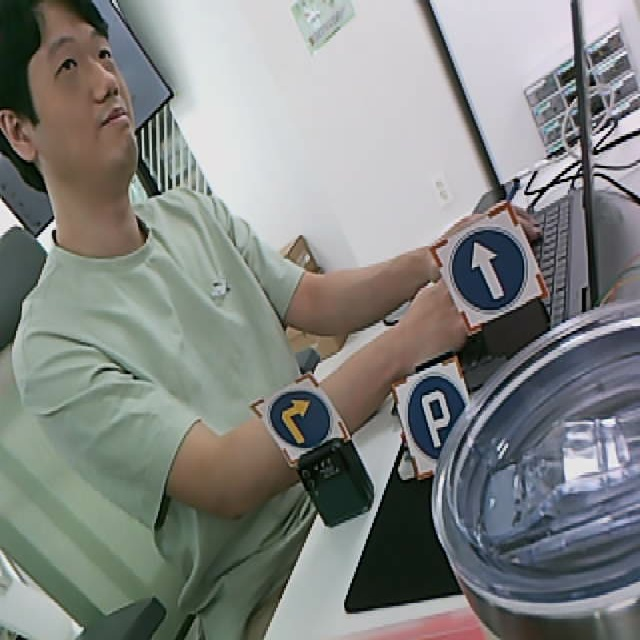parking: (390, 353, 469, 482)
right: (251, 371, 351, 470)
straight: (431, 204, 548, 330)
